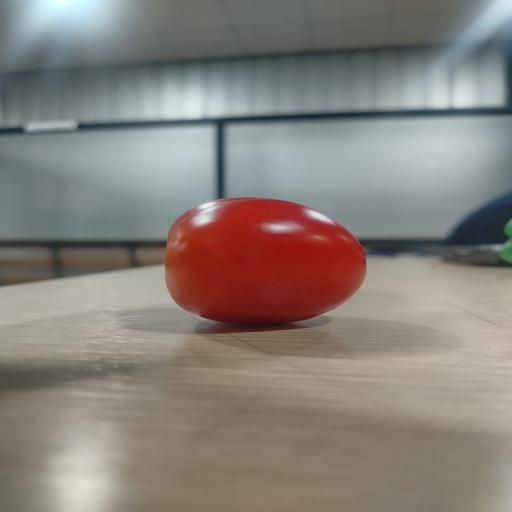ripe: (165, 198, 366, 325)
